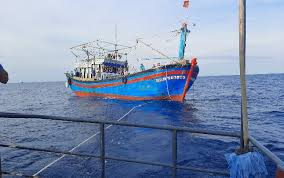tau_dansu: (67, 36, 200, 105)
